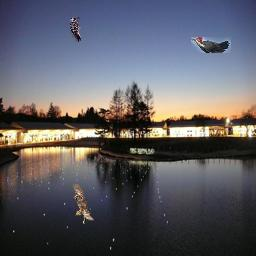Sparrow: (73, 184, 94, 224)
Woodpecker: (191, 37, 231, 53), (70, 17, 81, 42)
